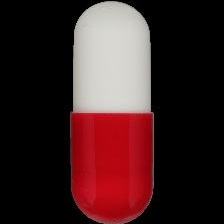16252-572: (0, 0, 224, 224)
